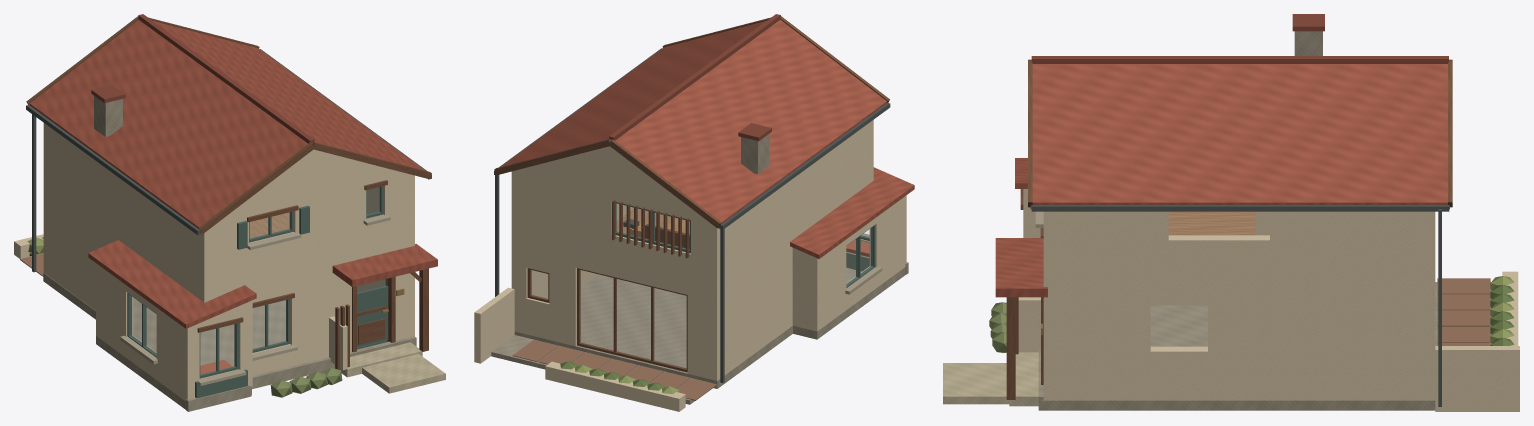
The model's file is west-reading-house_lod.glb.
The picture shows the model from 3 angles, left to right: view 1: azimuth 30°, elevation 25°; view 2: azimuth 150°, elevation 25°; view 3: azimuth 270°, elevation 25°; orthographic projection. The views are drawn at different scales.
Parts seen in each view (by area): view 1: West pitch and eave, East pitch and eave, Upper west wall end pier, Upper street wall pier.001, West wall end pier, Street wall pier.001, Front gable closure, Ground floor foundation, Reading bay side lean-to, Upper street wall pier, Reading bay side wall around opening, Entrance canopy (+35 smaller); view 2: West pitch and eave, Ground floor foundation, East pitch and eave, Upper west wall end pier, Upper rear wall end pier, West wall end pier, Rear gable closure, Reading bay side lean-to, Rear garden wall pier, Rear garden wall pier.001, Reading bay side wall around opening.001, Rear planter wall (+29 smaller); view 3: East pitch and eave, East wall end pier, Upper east wall end pier, East wall pier, Upper east wall pier, Ground floor foundation, Rear privacy return, Upper east wall sill, Terracotta ridge cap, East wall sill, Entrance canopy, Rain gutter under eave.001 (+20 smaller).
Boxes of the visible parts, x1,y1,x2,y2 form: West pitch and eave: (29,20,312,233); East pitch and eave: (153,21,424,170); Upper west wall end pier: (48,126,199,290); Upper street wall pier.001: (293,180,366,272); West wall end pier: (49,181,122,310); Street wall pier.001: (290,258,353,365); Front gable closure: (230,149,399,213); Ground floor foundation: (43,273,285,366); Reading bay side lean-to: (88,240,202,319); Upper street wall pier: (199,209,248,294); Reading bay side wall around opening: (156,308,194,401); Entrance canopy: (332,244,437,286); West pitch and eave: (611,19,886,228); Ground floor foundation: (514,267,861,388); East pitch and eave: (501,21,765,166); Upper west wall end pier: (724,123,868,281); Upper rear wall end pier: (511,167,611,260); West wall end pier: (724,231,794,374); Rear gable closure: (527,146,689,207); Reading bay side lean-to: (790,181,902,258); Rear garden wall pier: (687,279,720,380); Rear garden wall pier.001: (549,246,580,346); Reading bay side wall around opening.001: (810,239,846,331); Rear planter wall: (545,361,685,411); East pitch and eave: (1030,64,1449,209); East wall end pier: (1208,284,1421,400); Upper east wall end pier: (1270,211,1423,283); East wall pier: (1056,284,1150,400); Upper east wall pier: (1055,211,1168,283); Ground floor foundation: (1041,305,1435,410); Rear privacy return: (1435,346,1519,411); Upper east wall sill: (1168,235,1269,283); Terracotta ridge cap: (1031,56,1448,63); East wall sill: (1150,346,1207,400); Entrance canopy: (995,238,1047,297); Rain gutter under eave.001: (1031,205,1449,211).
Bounding box in the file's own units: 7.37 × 6.6 × 11.86.
Materials: 21 (7 with a texture image).
